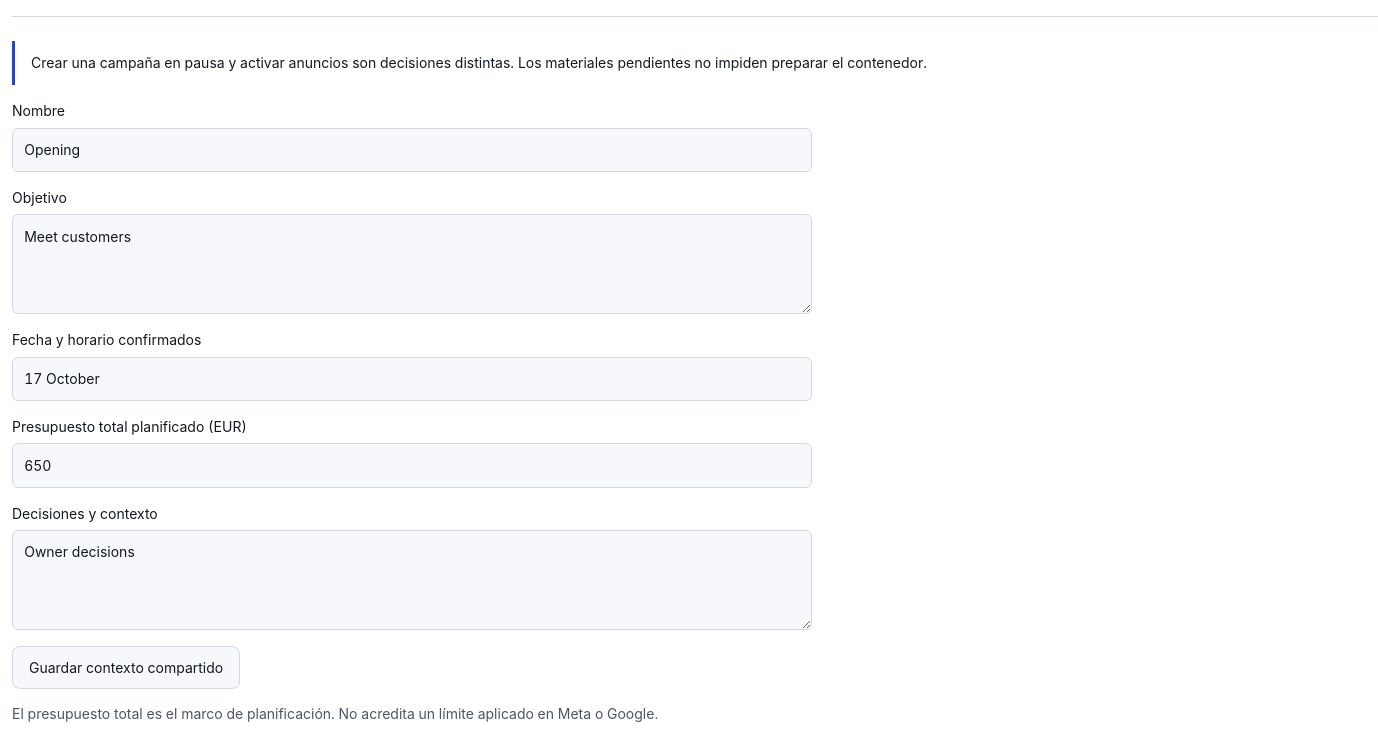
Scenario: shows optimistic-conflict errors without overwriting newer context
(page scrolled)
Click the button "Guardar contexto compartido": (126, 668) [12,646,240,689]
(page scrolled)
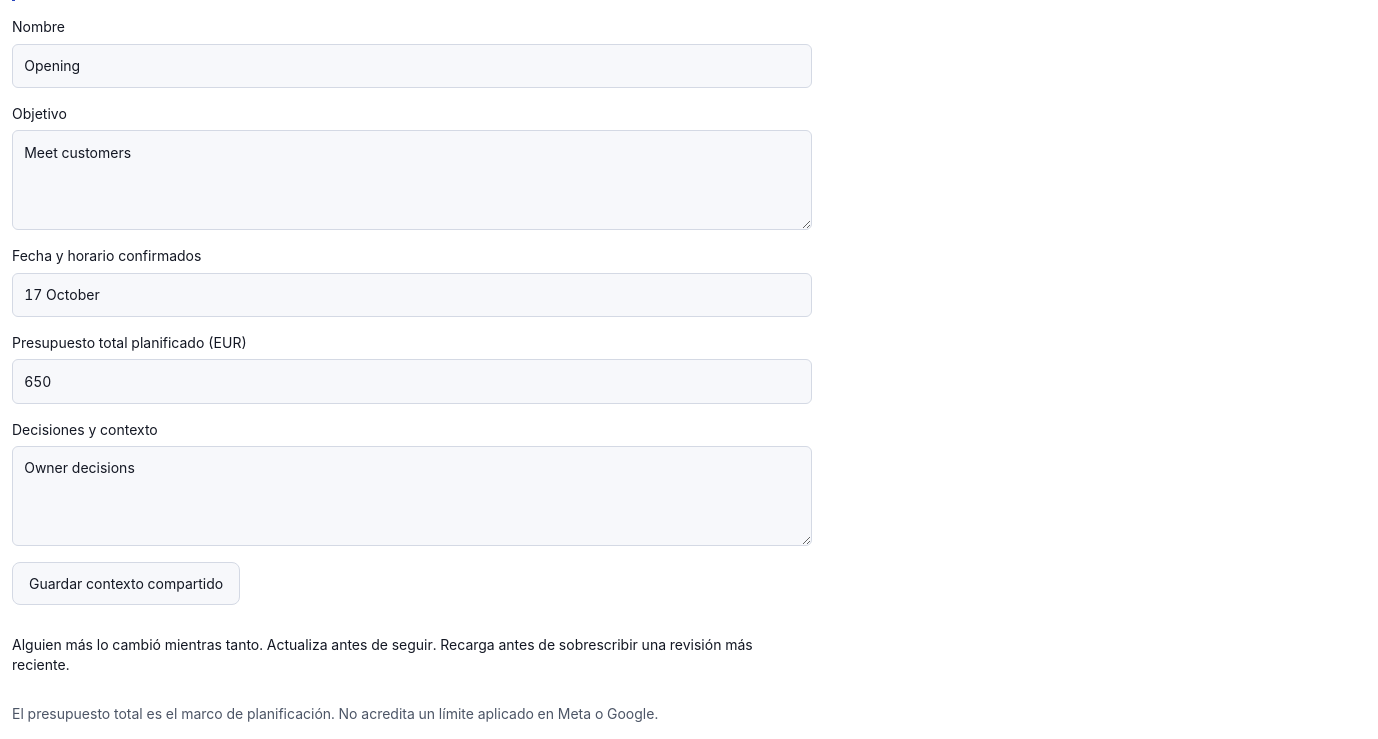
Check: the message shows "Recarga antes", box [12,636,753,673]
